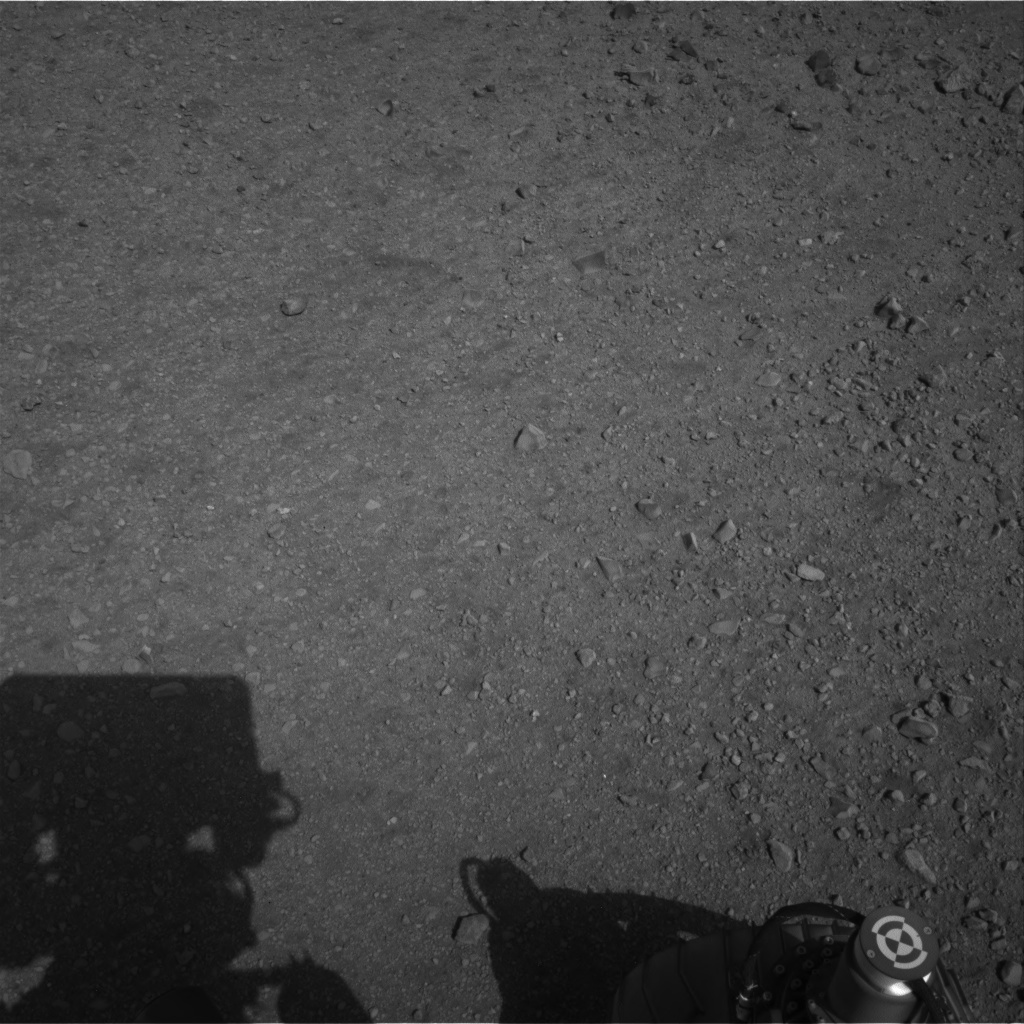soil: (6, 6, 1017, 1017)
